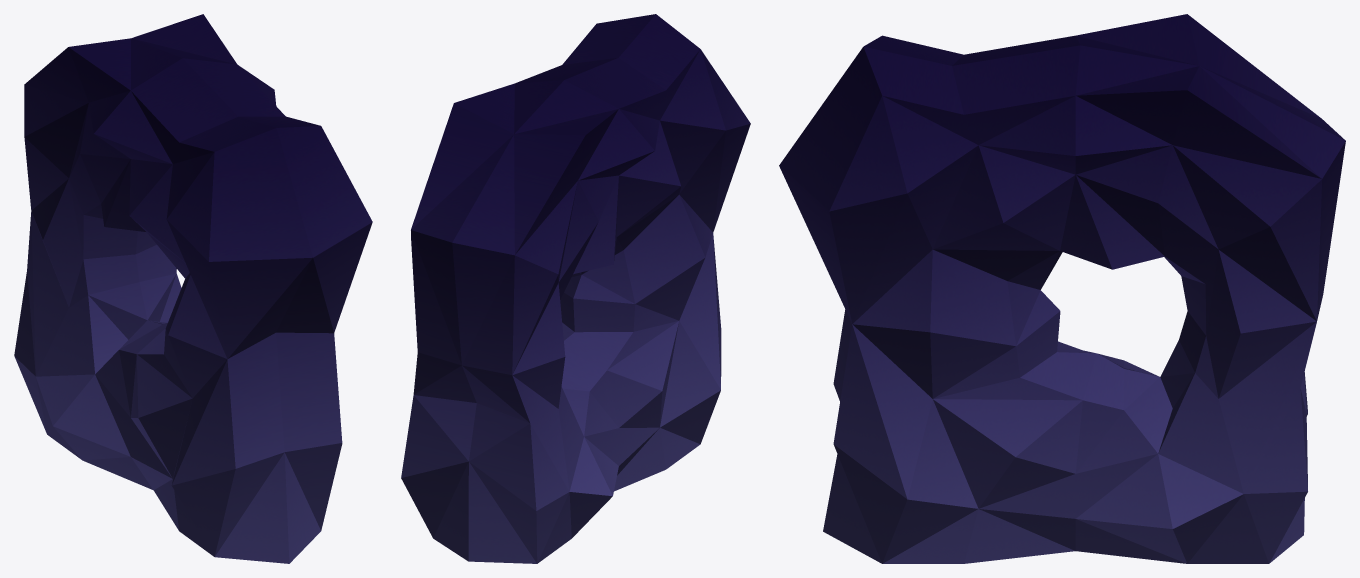
The model's file is MOD_Waypoint (5).fbx.
The picture shows the model from 3 angles, left to right: view 1: azimuth 30°, elevation 25°; view 2: azimuth 150°, elevation 25°; view 3: azimuth 270°, elevation 25°; orthographic projection. The views are drawn at different scales.
Parts seen in each view (by area): view 1: MOD_Waypoint5; view 2: MOD_Waypoint5; view 3: MOD_Waypoint5.
Part boxes in pixels (box(x1,y1,x2,y2)): MOD_Waypoint5: box(14, 14, 372, 563); MOD_Waypoint5: box(401, 14, 750, 563); MOD_Waypoint5: box(779, 14, 1345, 563).
Size of the model in its own units: 1.46 by 3.27 by 3.44.
